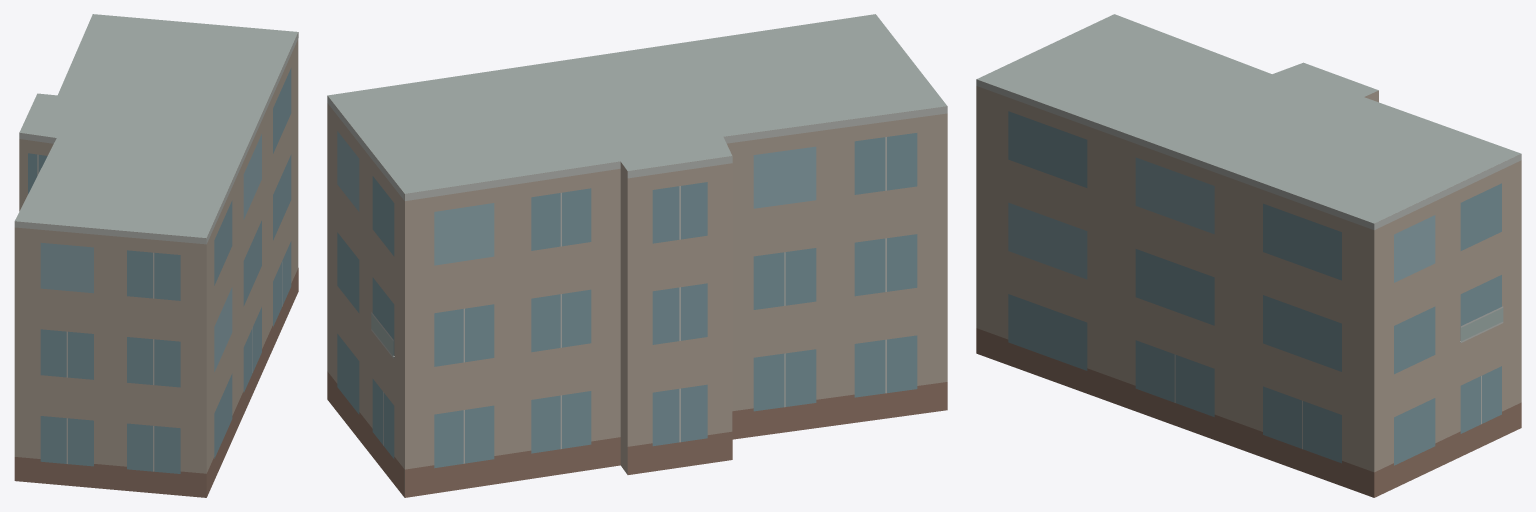
Rendered from survey-upis-32893642.glb.
3 views of the same model, side by side, from view 1: azimuth 30°, elevation 25°; view 2: azimuth 150°, elevation 25°; view 3: azimuth 270°, elevation 25° (orthographic). The views are drawn at different scales.
Parts seen in each view (by area): view 1: survey-upis-32893642.tmp; view 2: survey-upis-32893642.tmp; view 3: survey-upis-32893642.tmp.
Boxes of the visible parts, box(x1,y1,x2,y2) form: survey-upis-32893642.tmp: box(14, 14, 298, 497); survey-upis-32893642.tmp: box(327, 14, 947, 497); survey-upis-32893642.tmp: box(976, 14, 1521, 497).
Size of the model in its own units: 16.73 by 10.2 by 18.38.
